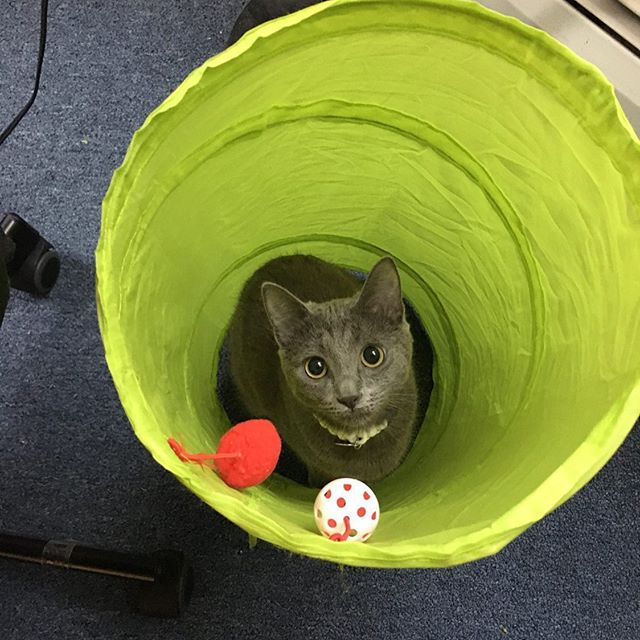cat: (250, 256, 427, 433)
